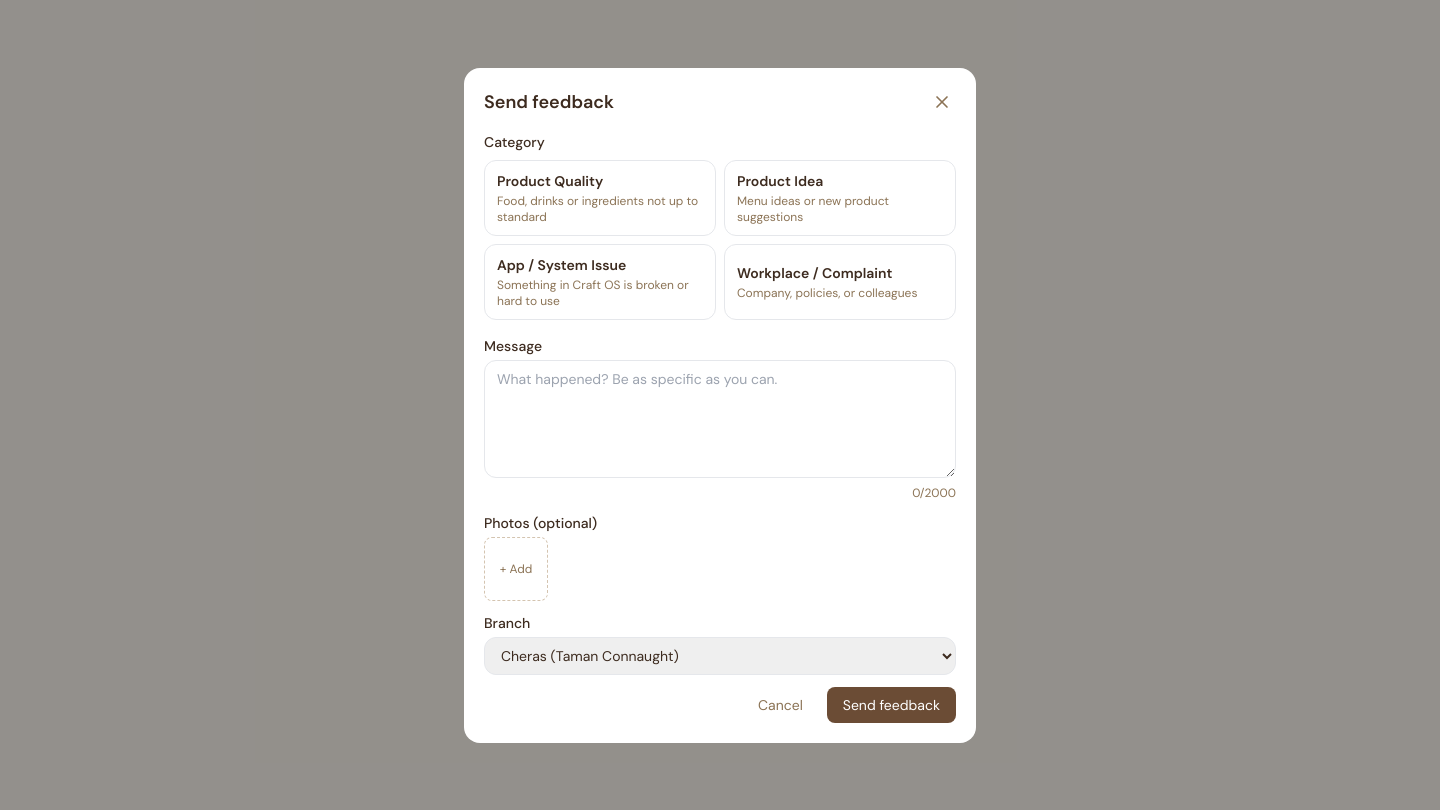
Test case: FeedbackSheet › 打开匿名后照片区隐藏并出现提示
Click the button "Workplace / Complaint Company, policies, or colleagues". click: (840, 282)
box: 724,244 -> 956,320
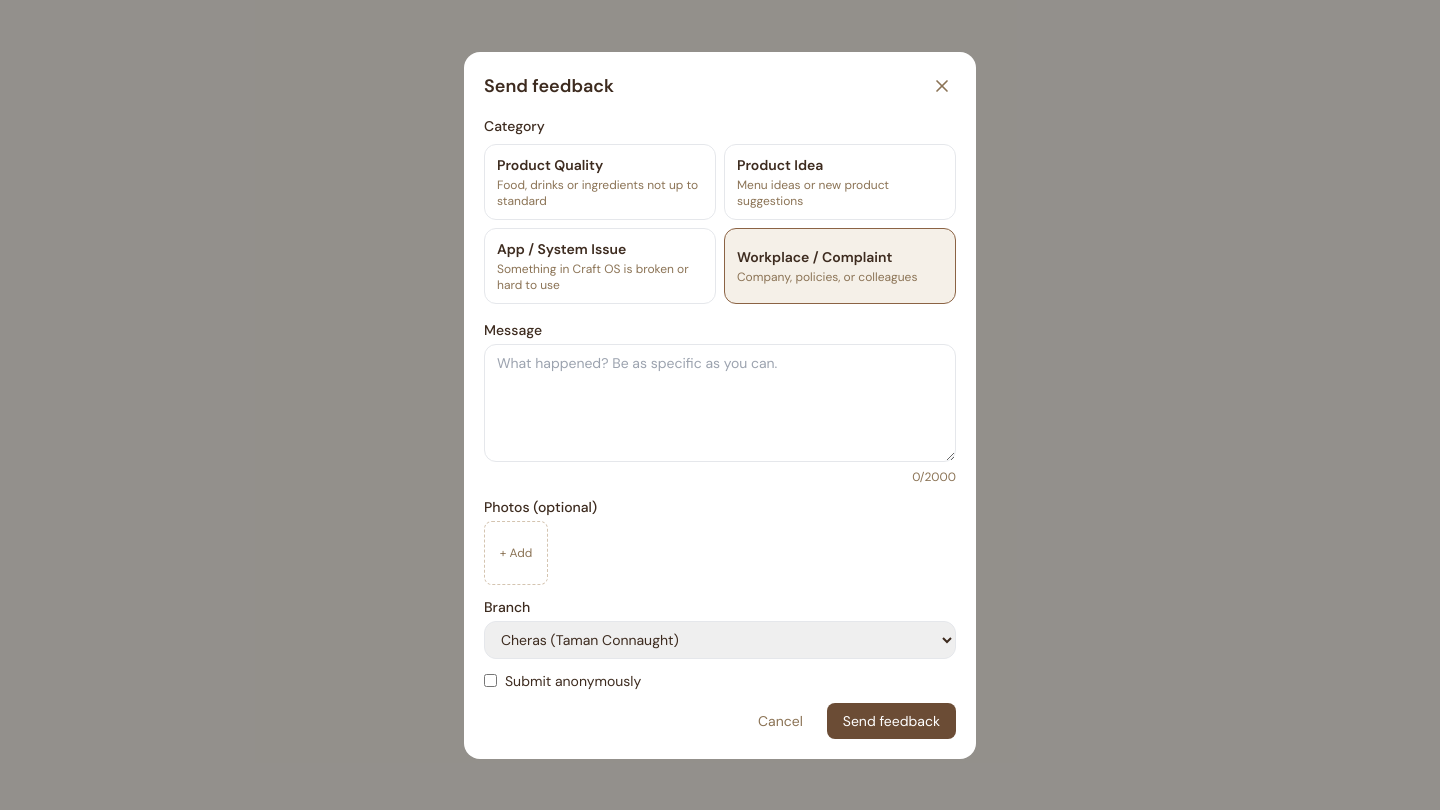
Expected: the file field named "Add photos" is shown, 484,520 -> 548,584
Click the checkbox labelled "Submit anonymously". click: (490, 680)
box: 484,674 -> 497,687
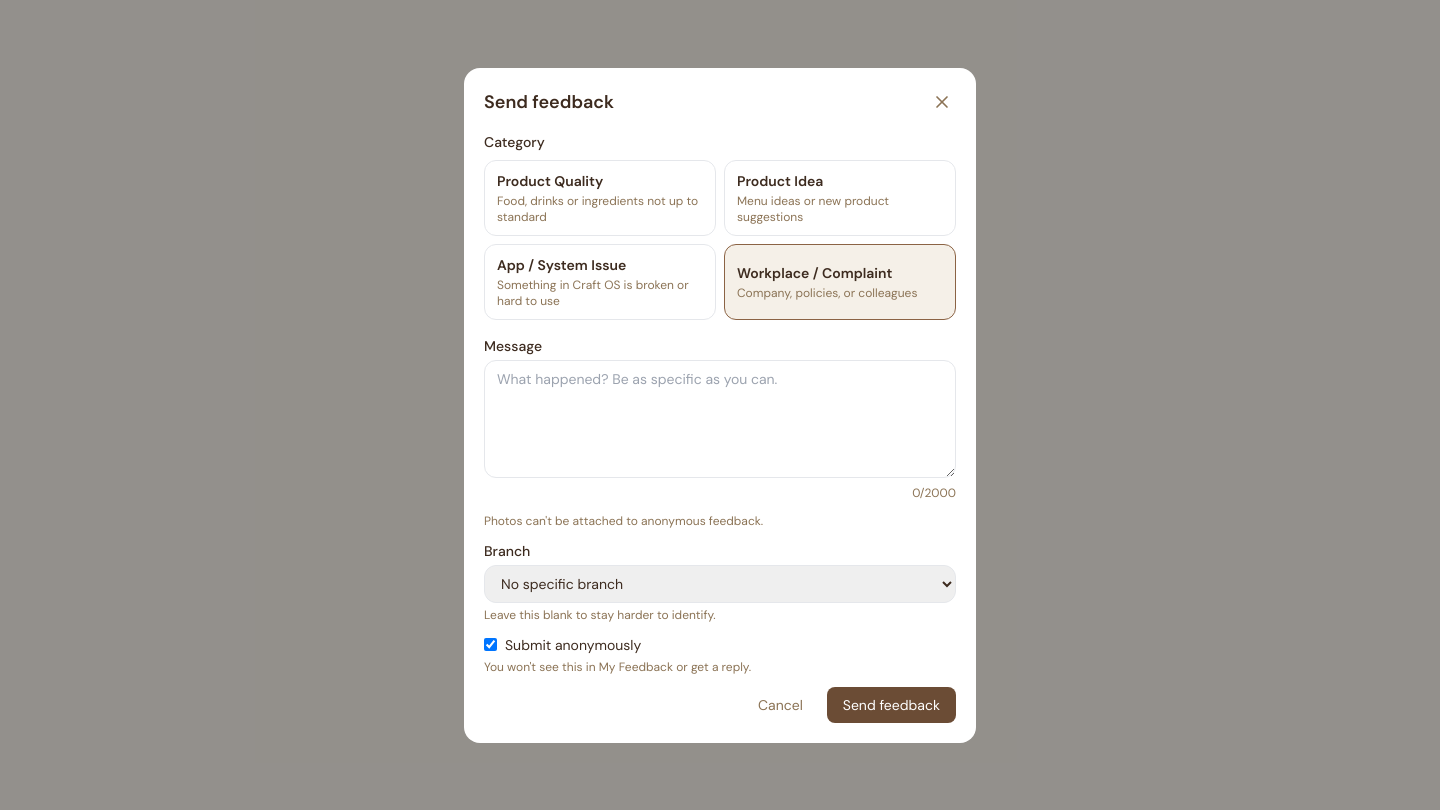
Expected: the text "Photos can't be attached to anonymous feedback." is shown, 484,512 -> 763,528
Expected: the text "You won't see this in My Feedback or get a reply." is shown, 484,658 -> 751,674
